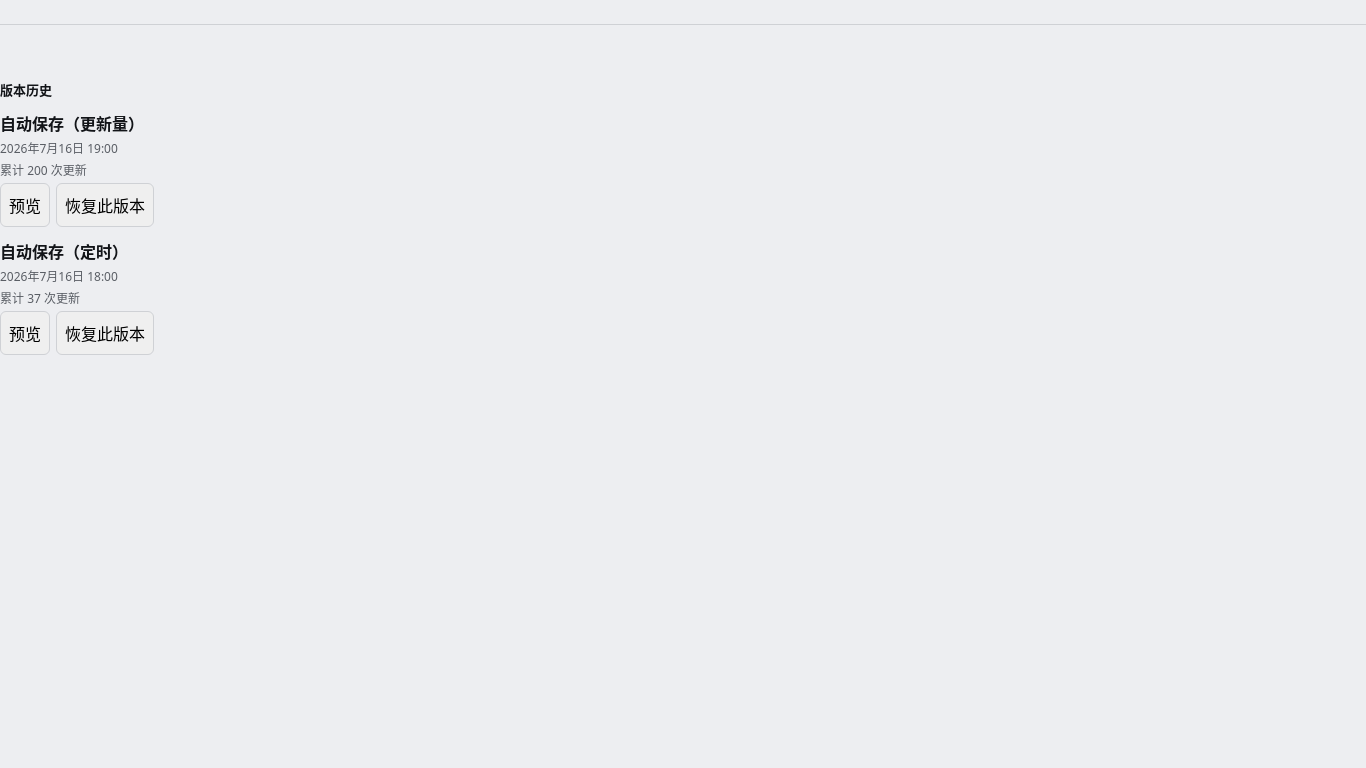
Test case: VersionHistory › requires a second confirmation with the snapshot time and reports successful restore
Click the button "恢复此版本" below "自动保存（更新量）": {"x": 105, "y": 205} top-left (56, 183), bottom-right (154, 227)
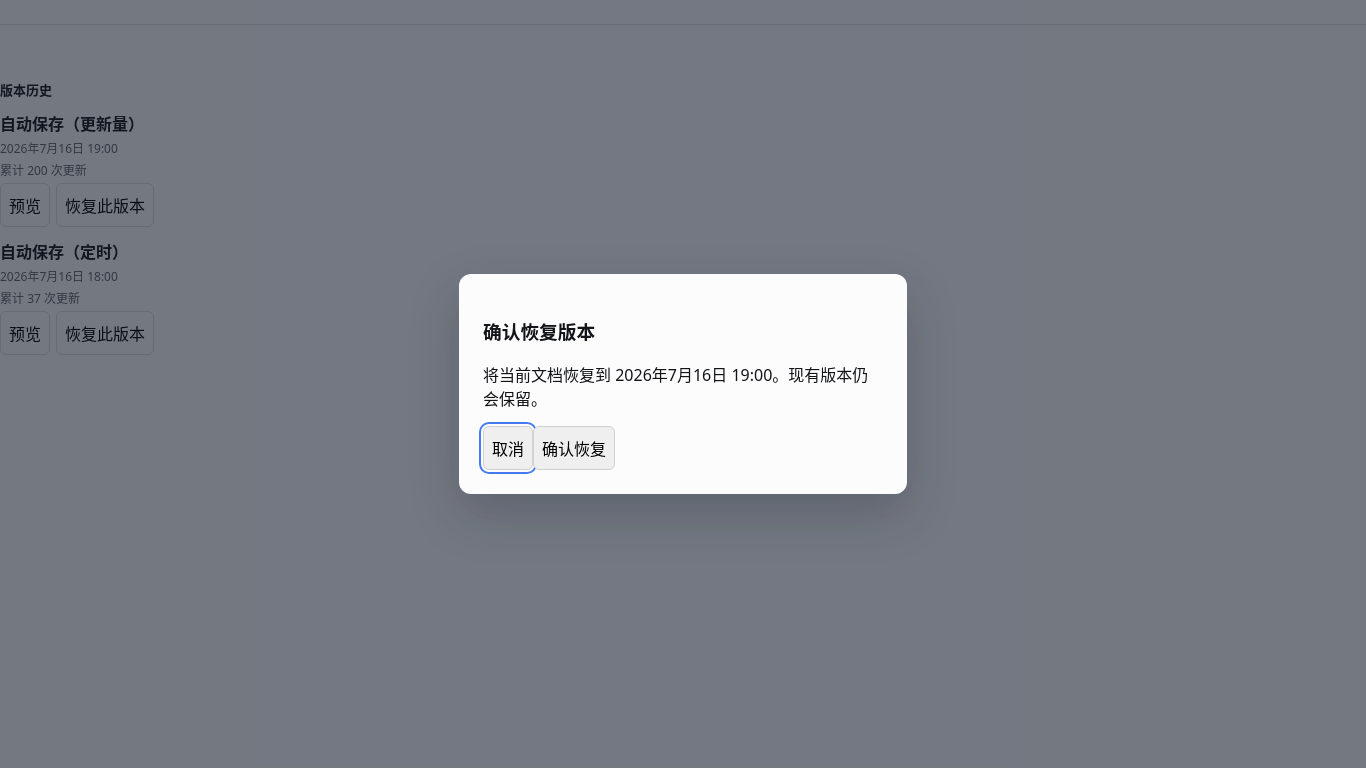
expect the dialog "确认恢复版本" shows "2026": met, box top-left (615, 364), bottom-right (772, 386)
Press Escape
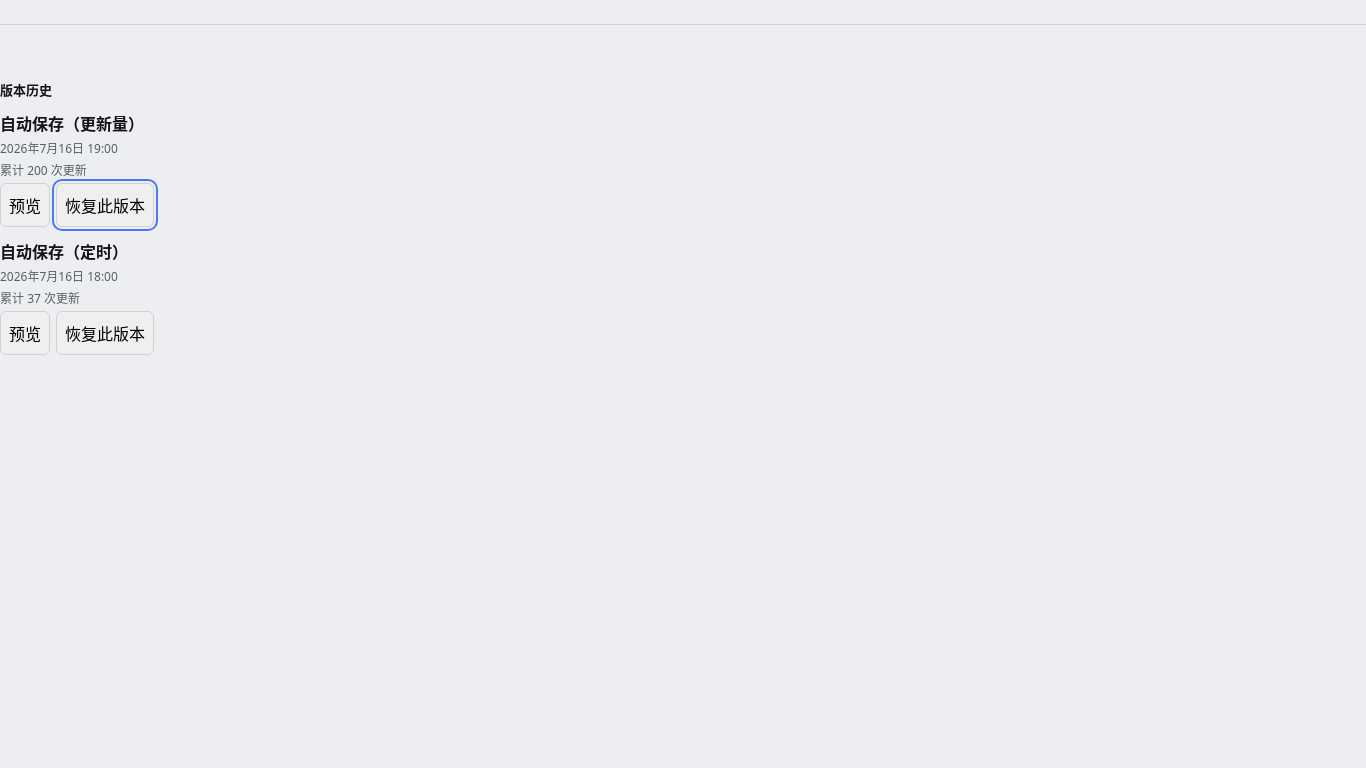
expect the heading "确认恢复版本" is gone: met
Click the button "恢复此版本" below "自动保存（更新量）": {"x": 105, "y": 205} top-left (56, 183), bottom-right (154, 227)
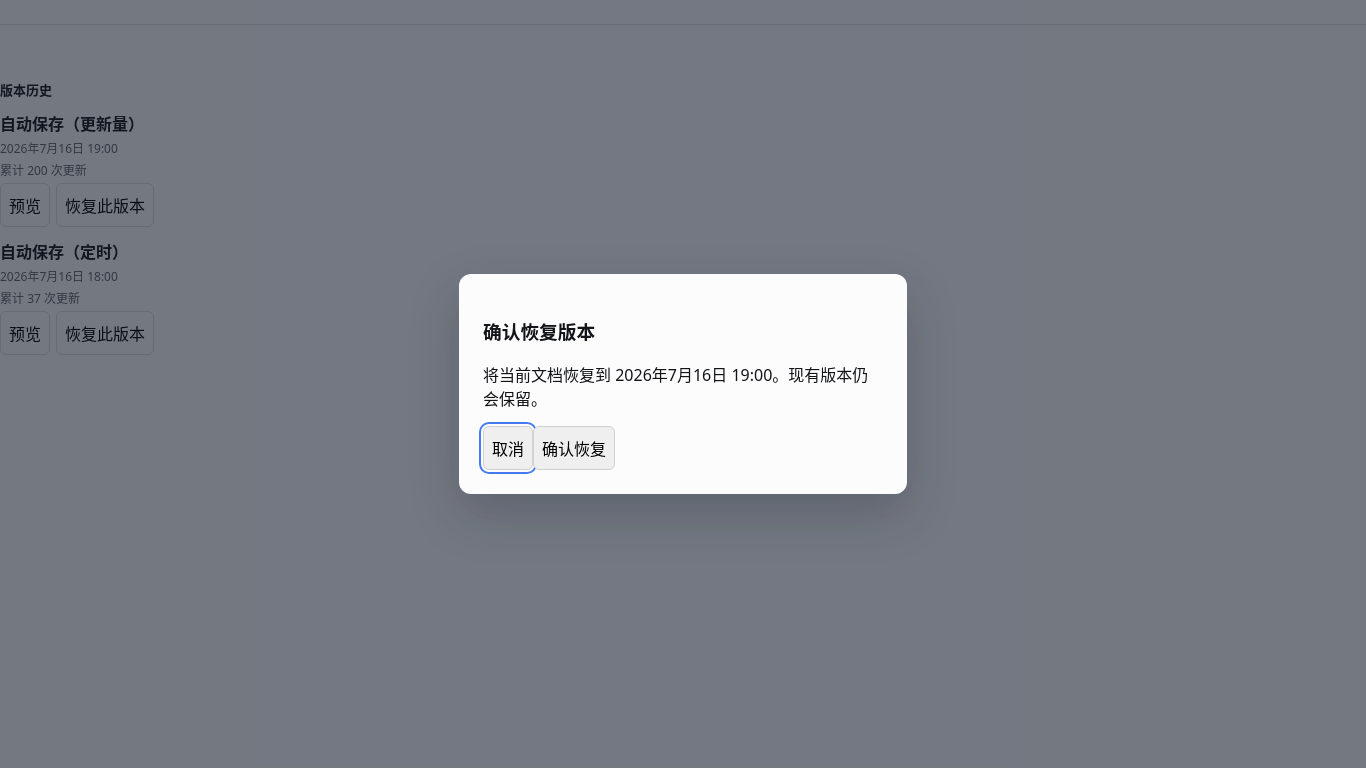
Click the button "确认恢复": {"x": 574, "y": 448} top-left (533, 426), bottom-right (615, 470)
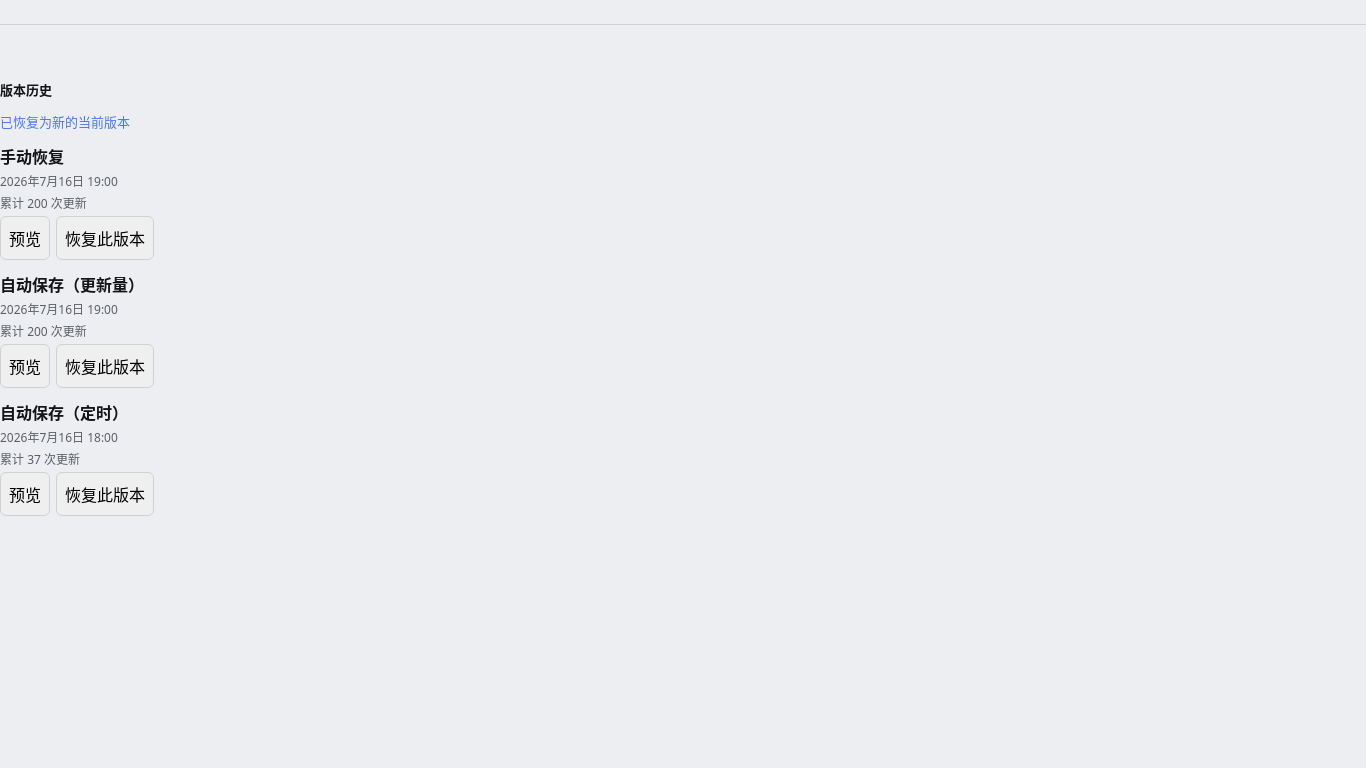
expect the text "已恢复为新的当前版本" is shown: met, box top-left (0, 113), bottom-right (130, 131)
